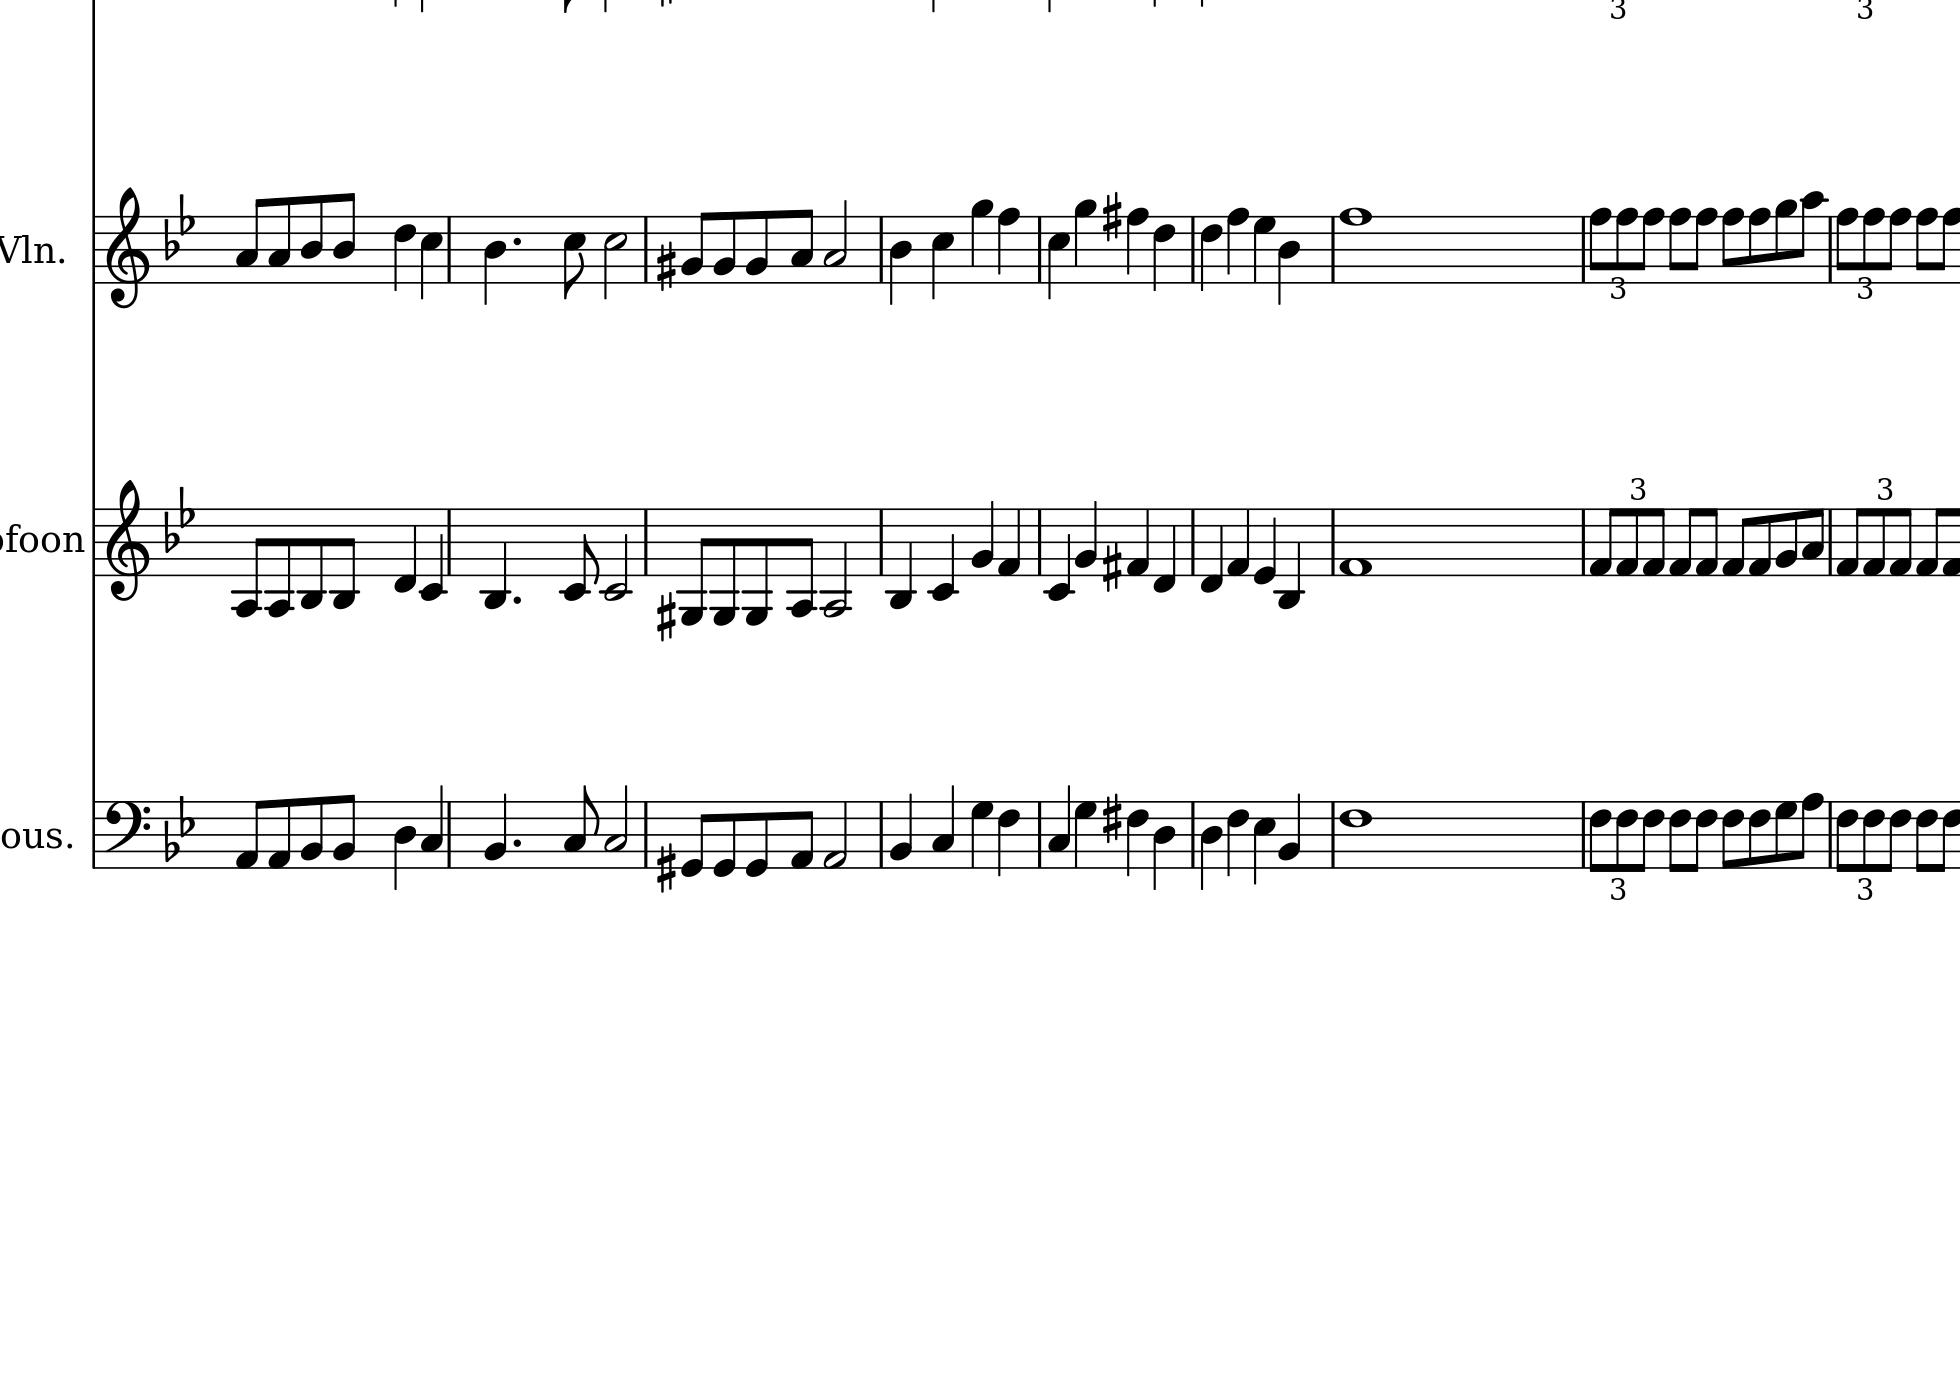1_1: (1339, 504, 1374, 580)
1_6: (1338, 799, 1374, 871)
1_8: (1338, 204, 1372, 286)
2_-2: (601, 505, 631, 601)
2_-4: (820, 505, 850, 616)
2_1: (822, 798, 850, 870)
2_3: (603, 781, 630, 867), (823, 198, 849, 283)
2_5: (601, 214, 628, 301)
3: (1608, 274, 1627, 301), (1609, 874, 1629, 901), (1855, 874, 1875, 901), (1629, 475, 1647, 502), (1857, 274, 1875, 300), (1608, 1, 1629, 22), (1876, 475, 1893, 501), (1855, 1, 1875, 22)
4_-1: (391, 505, 418, 595), (1152, 505, 1179, 595), (1198, 505, 1224, 595)
4_-2: (928, 505, 958, 603), (1044, 504, 1074, 601), (417, 505, 447, 601)
4_-3: (478, 504, 508, 612), (886, 504, 915, 610), (1276, 505, 1302, 610)
4_0: (1252, 505, 1278, 586)
4_1: (997, 504, 1023, 577), (1125, 505, 1150, 577), (1225, 505, 1251, 577)
4_2: (969, 496, 996, 577), (1074, 496, 1099, 577), (483, 790, 508, 870), (1278, 790, 1303, 870), (888, 790, 913, 868)
4_3: (420, 781, 445, 867), (931, 783, 957, 868), (1047, 783, 1072, 868)
4_4: (481, 214, 507, 306), (888, 214, 913, 306), (391, 799, 417, 891), (1278, 214, 1302, 306), (1200, 799, 1224, 889), (1153, 799, 1176, 889)
4_5: (418, 214, 444, 301), (930, 213, 955, 300), (1047, 214, 1071, 301), (1252, 798, 1276, 885)
4_6: (1227, 798, 1251, 882), (391, 213, 415, 295), (997, 798, 1023, 874), (1152, 213, 1176, 292), (1200, 214, 1224, 292), (1126, 799, 1149, 877)
4_7: (969, 798, 996, 868), (1074, 796, 1099, 868), (1252, 214, 1276, 283)
4_8: (996, 205, 1023, 283), (1125, 205, 1149, 289), (1227, 205, 1251, 285)
4_9: (969, 196, 994, 285), (1074, 196, 1098, 285)
8_-2: (558, 505, 600, 601)
8_-3: (330, 505, 358, 610), (300, 505, 325, 610)
8_-4: (232, 505, 265, 619), (265, 504, 295, 618), (787, 504, 816, 619)
8_-5: (678, 505, 711, 625), (711, 504, 739, 628), (744, 502, 772, 625)
8_0: (679, 798, 711, 877), (744, 798, 769, 879), (712, 798, 738, 877)
8_1: (232, 796, 265, 870), (1722, 505, 1752, 577), (1668, 505, 1696, 577), (1836, 505, 1864, 577), (1915, 505, 1944, 577), (1590, 505, 1617, 577), (267, 796, 292, 871), (789, 798, 814, 870), (1617, 505, 1641, 577), (1695, 505, 1719, 577), (1749, 505, 1773, 577), (1863, 505, 1887, 577), (1888, 505, 1912, 577), (1642, 505, 1665, 577), (1941, 505, 1960, 577)
8_10: (1797, 189, 1828, 285)
8_2: (679, 208, 709, 283), (331, 792, 357, 870), (744, 208, 769, 285), (298, 793, 324, 870), (712, 208, 736, 285), (1774, 505, 1798, 577)
8_3: (562, 781, 598, 868), (235, 195, 265, 285), (267, 195, 292, 286), (790, 205, 814, 285), (1800, 505, 1825, 577)
8_4: (298, 193, 325, 286), (331, 190, 357, 286)
8_5: (561, 214, 586, 300)
8_6: (1692, 798, 1719, 873), (1638, 798, 1665, 871), (1885, 799, 1911, 871), (1668, 798, 1692, 873), (1914, 798, 1938, 873), (1938, 796, 1960, 873), (1590, 798, 1612, 873), (1722, 796, 1744, 871), (1836, 799, 1858, 873), (1615, 799, 1638, 871), (1749, 798, 1771, 870), (1863, 798, 1884, 873)
8_7: (1774, 799, 1797, 870)
8_8: (1797, 790, 1827, 870), (1692, 205, 1719, 286), (1639, 205, 1665, 285), (1887, 205, 1912, 285), (1668, 205, 1692, 286), (1836, 205, 1860, 286), (1915, 205, 1939, 286), (1747, 205, 1771, 285), (1863, 205, 1885, 289), (1615, 205, 1638, 288), (1588, 205, 1611, 286), (1722, 205, 1744, 285), (1938, 204, 1959, 288)
8_9: (1773, 199, 1797, 285)
B_F: (163, 481, 196, 552), (163, 792, 196, 862), (163, 190, 196, 259)
Fclef: (103, 798, 151, 868)
Gclef: (103, 183, 150, 310), (103, 477, 150, 601)
Sharp: (1101, 538, 1125, 592), (654, 238, 676, 292), (655, 589, 676, 642), (655, 841, 676, 892), (1102, 189, 1122, 243), (1102, 790, 1122, 841)
Single_barline: (1575, 508, 1593, 574), (1323, 801, 1341, 867), (871, 216, 889, 280), (1822, 799, 1839, 868), (1575, 216, 1591, 283), (1822, 216, 1839, 283), (1032, 799, 1048, 867), (1575, 801, 1591, 868), (637, 216, 654, 282), (1032, 216, 1048, 282), (1032, 508, 1048, 574), (1185, 508, 1201, 574), (1324, 508, 1341, 574), (1185, 799, 1201, 865), (441, 216, 457, 280), (1324, 216, 1341, 280), (637, 508, 652, 576), (442, 799, 457, 867), (874, 799, 889, 867), (874, 508, 889, 574), (1824, 508, 1839, 574), (442, 510, 457, 576), (637, 801, 652, 867), (1186, 217, 1201, 282), (87, 216, 100, 283), (87, 801, 100, 868), (88, 508, 100, 576)
Vln: (1, 226, 57, 270)
dot: (508, 592, 526, 607), (508, 235, 523, 247), (511, 835, 523, 849)
